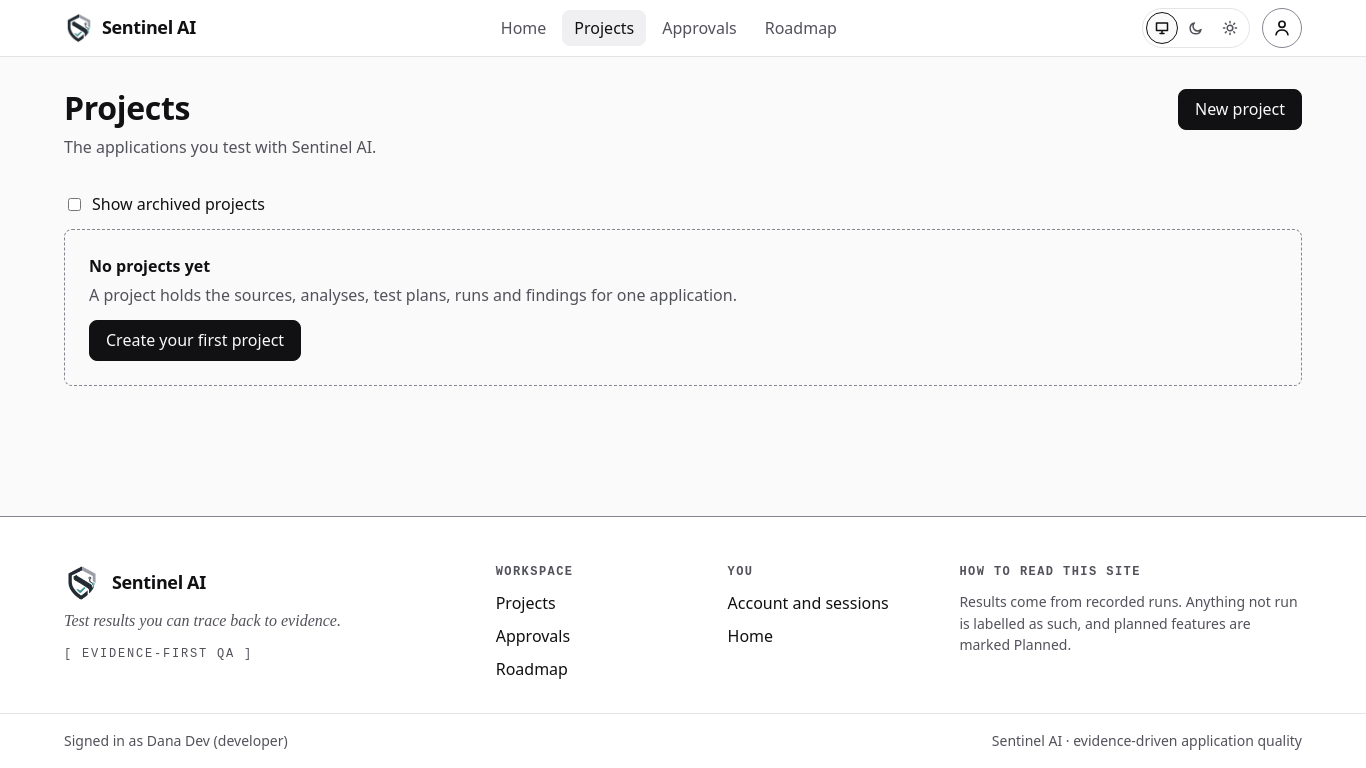
Test: projects › creates a project after validating required fields, then opens it
Expected: the text "No projects yet" is shown, 89,255 -> 210,277
Click the button "New project" at (1240, 110), box 1178,89 -> 1302,130
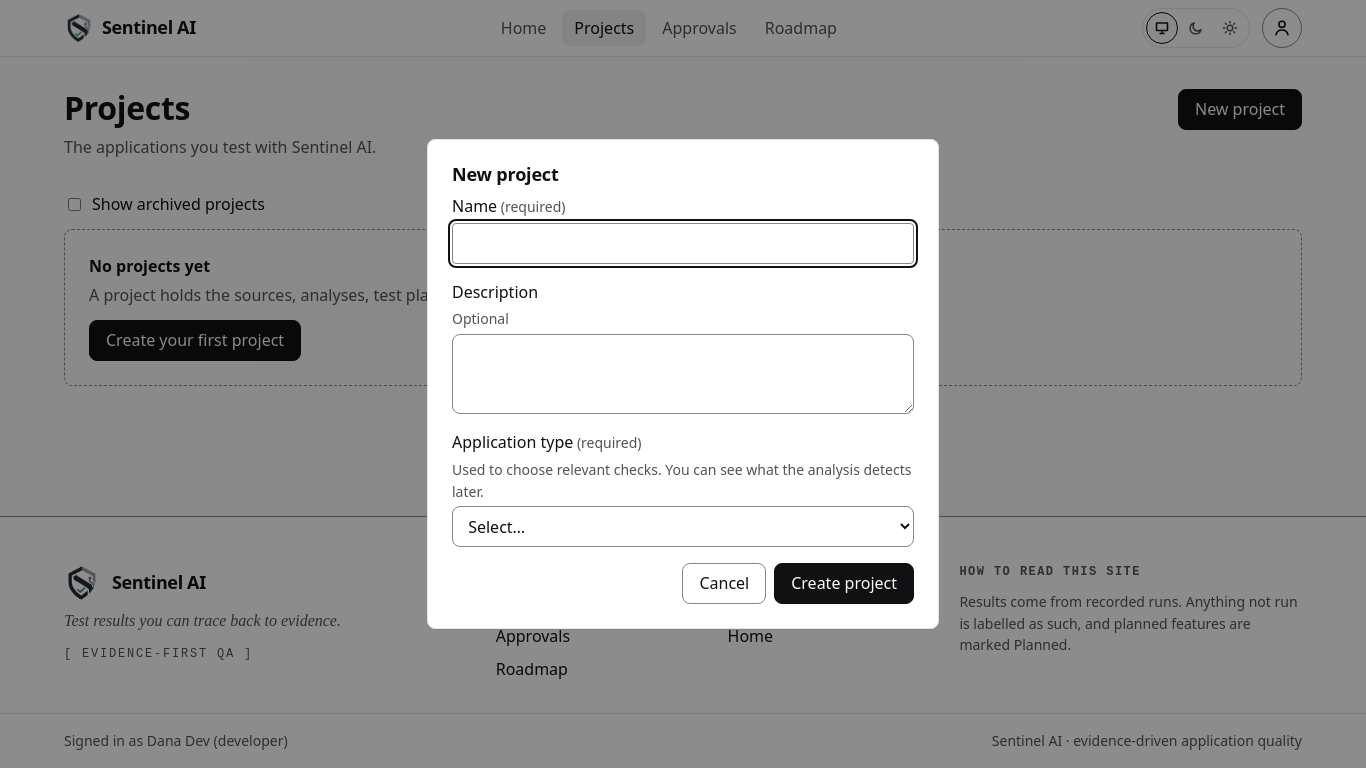
Click the button "Create project" at (844, 583), box 774,563 -> 914,604
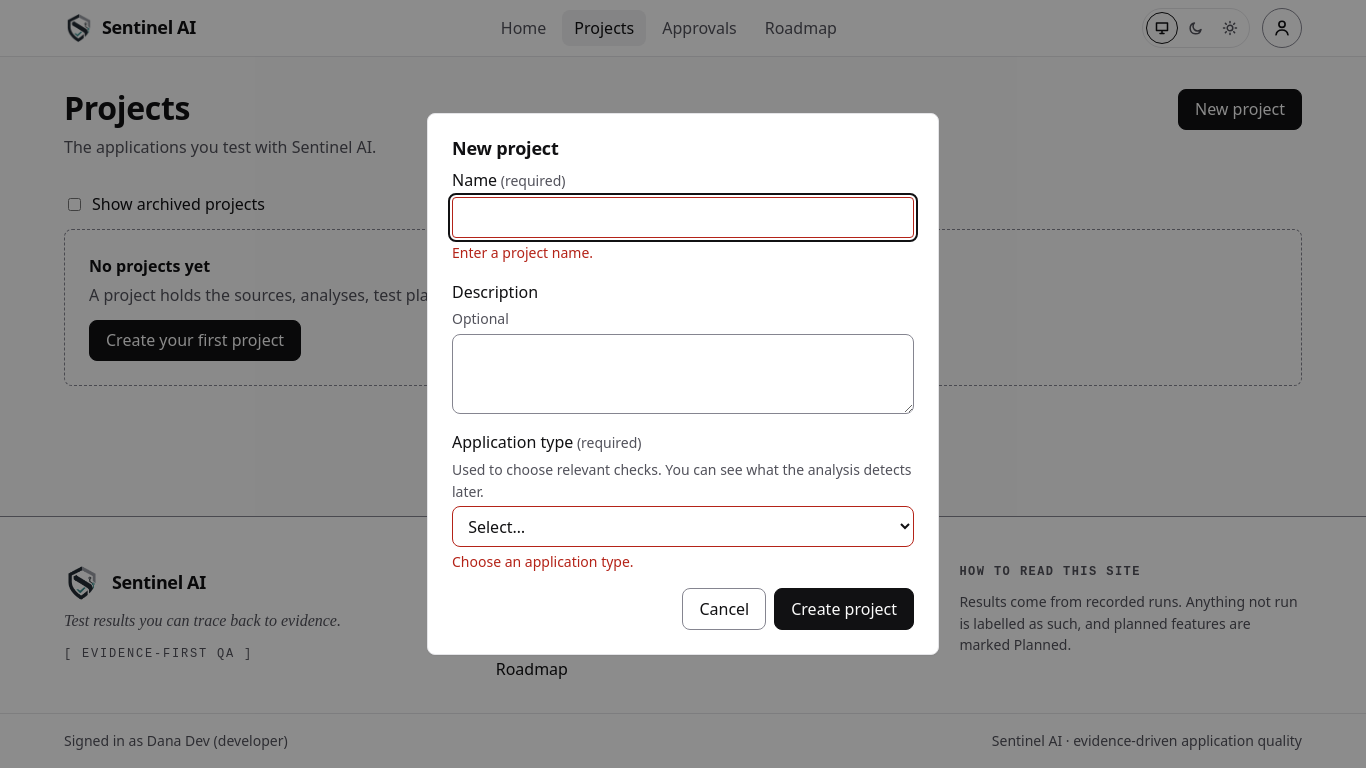
Result: the text "Enter a project name." is shown at 452,243 -> 593,262
Type "Shop" into the field labelled "Name (required)" at (683, 217), box 452,197 -> 914,238
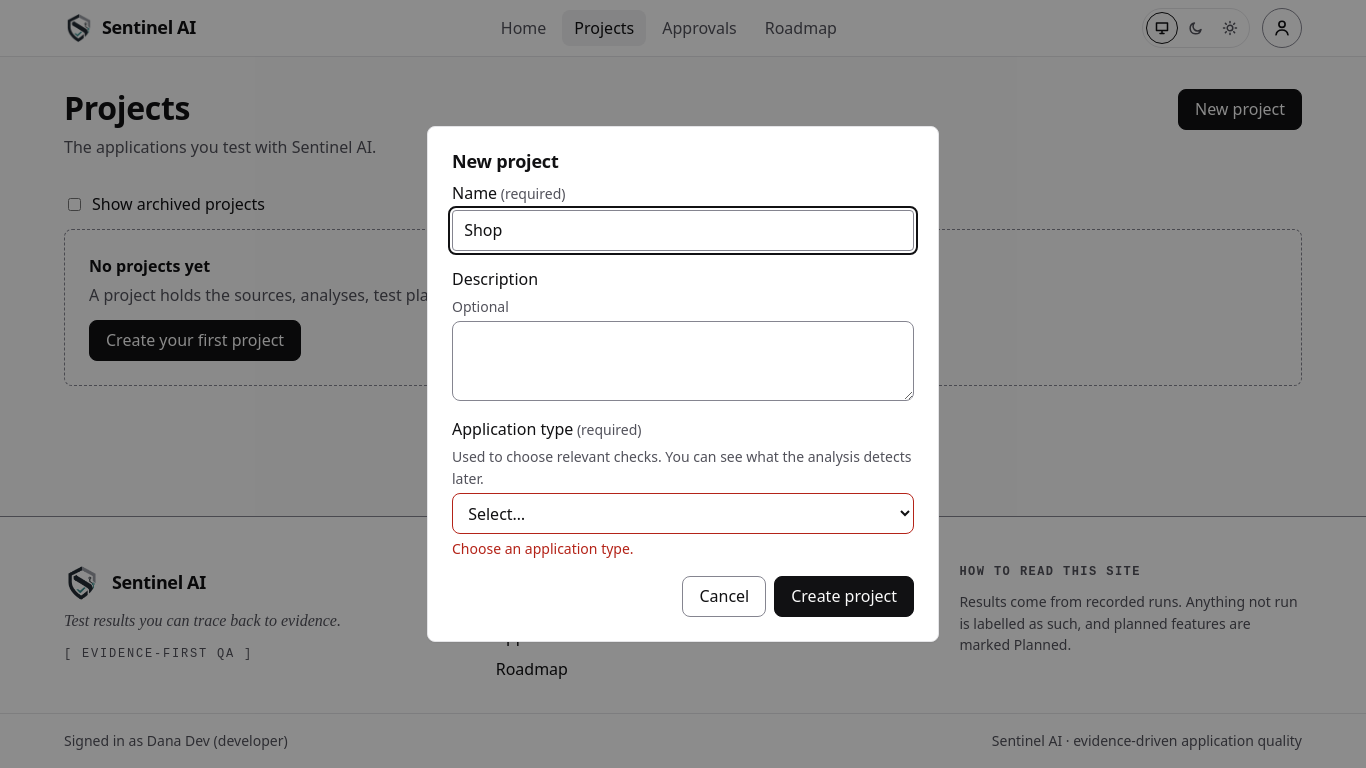
Select "Web application" in the dropdown labelled "Application type (required)" at (683, 514), box 452,494 -> 914,534
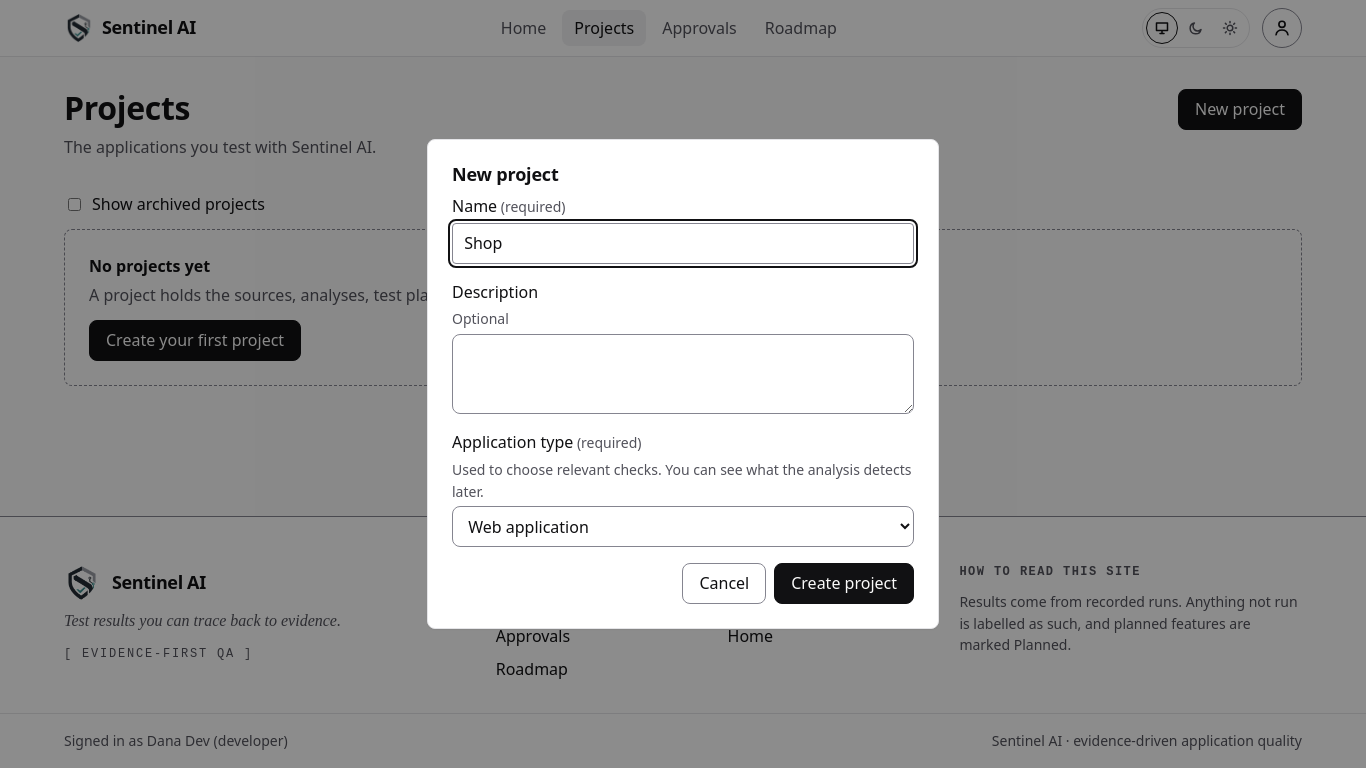
Click the button "Create project" at (844, 583), box 774,563 -> 914,604
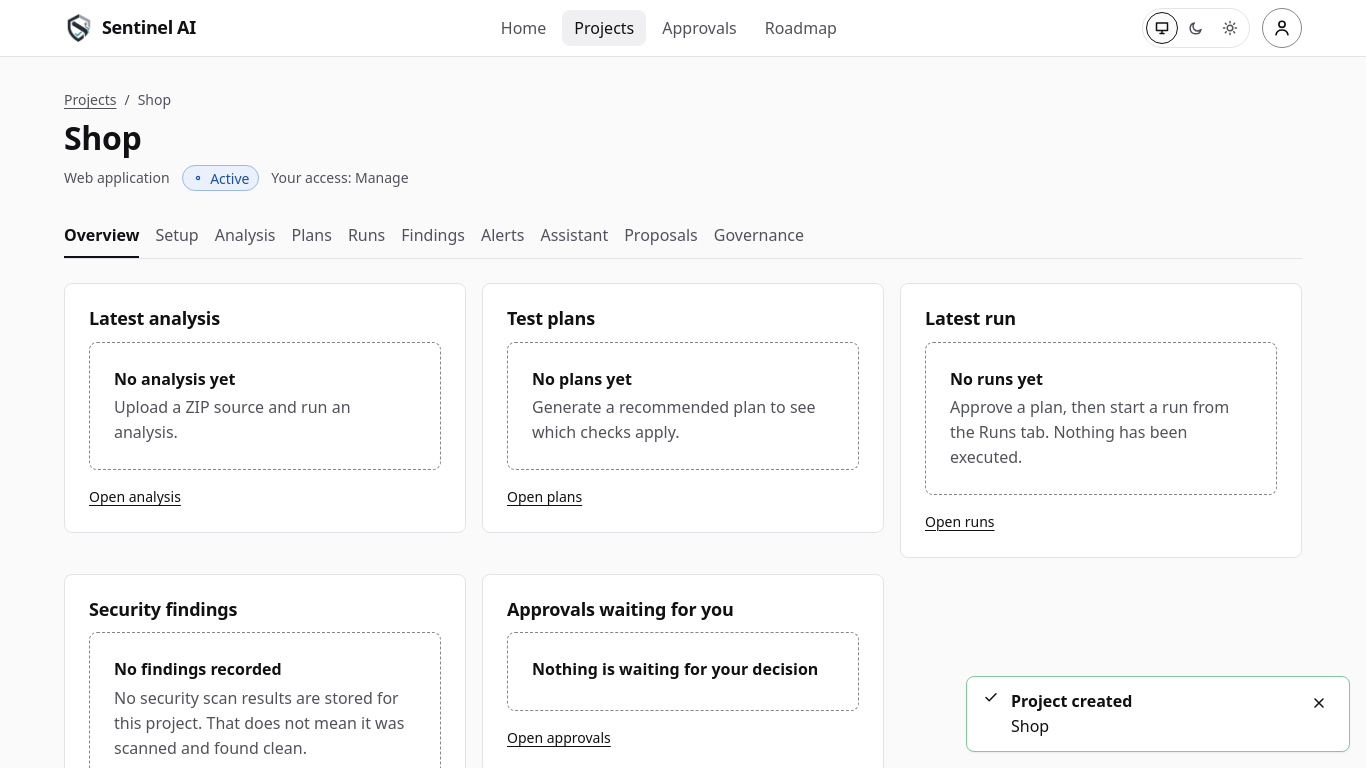
Result: the heading "Shop" is shown at 64,116 -> 142,159
